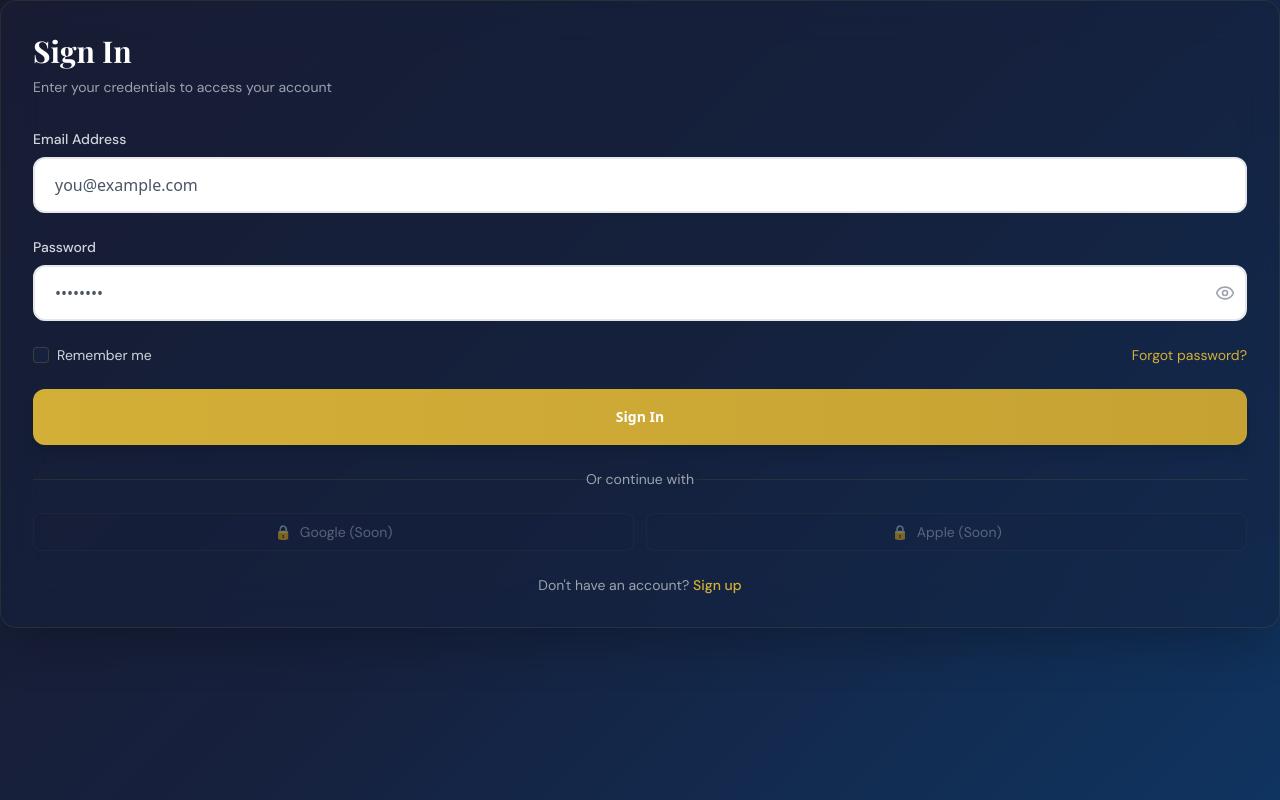
Scenario: LoginForm - 401 Error Handling › displays 401 error banner for invalid credentials
Type "test@example.com" into the field labelled "Email Address" at point(640, 185), box [33, 157, 1247, 213]
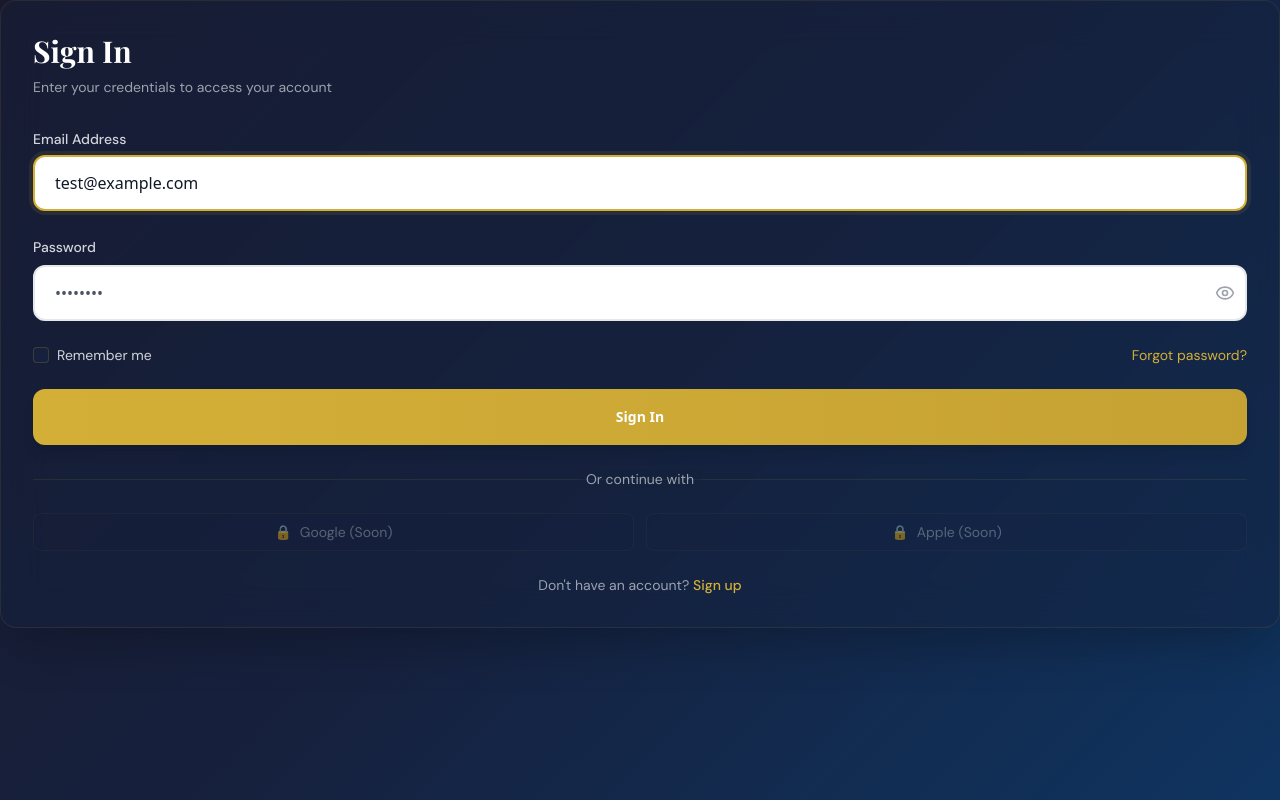
Type "WrongPassword123!" into the password field with placeholder "••••••••" at point(640, 293), box [33, 265, 1247, 321]
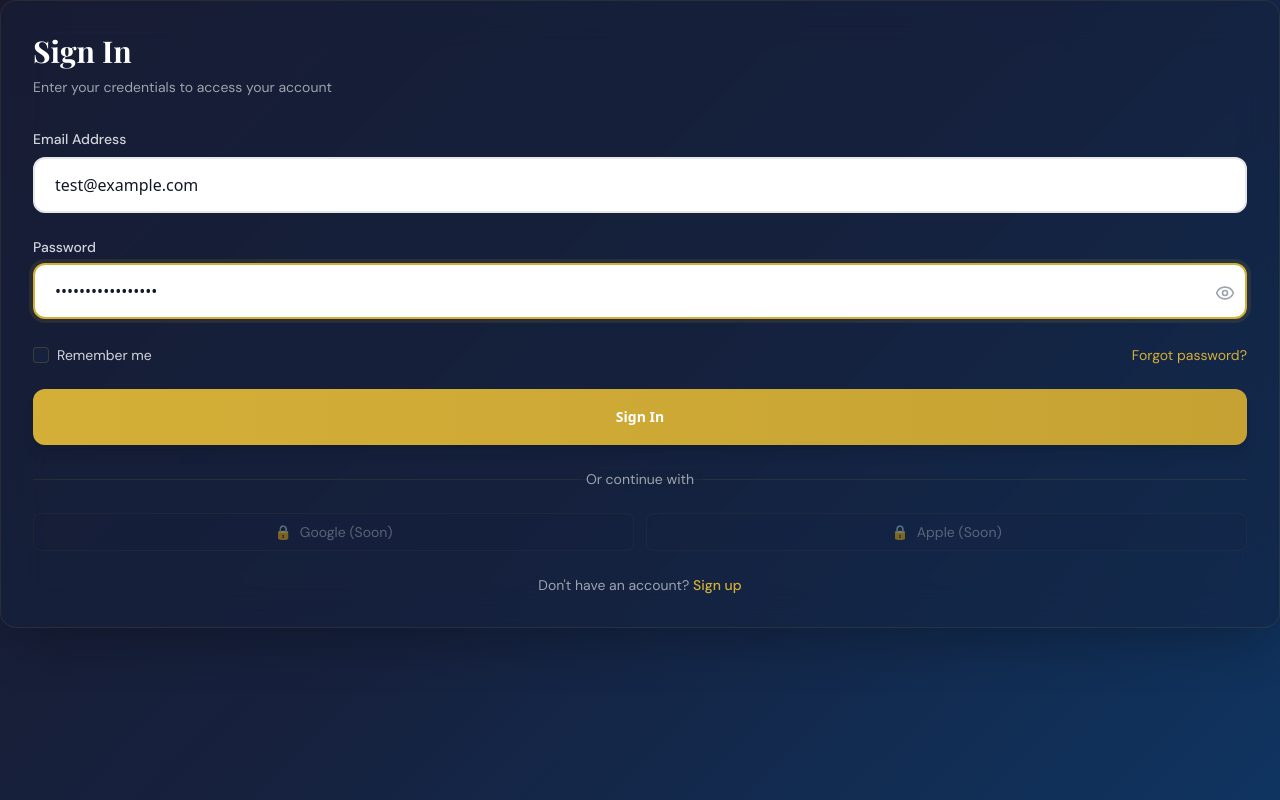
Click the button "Sign In" at point(640, 417), box [33, 389, 1247, 445]
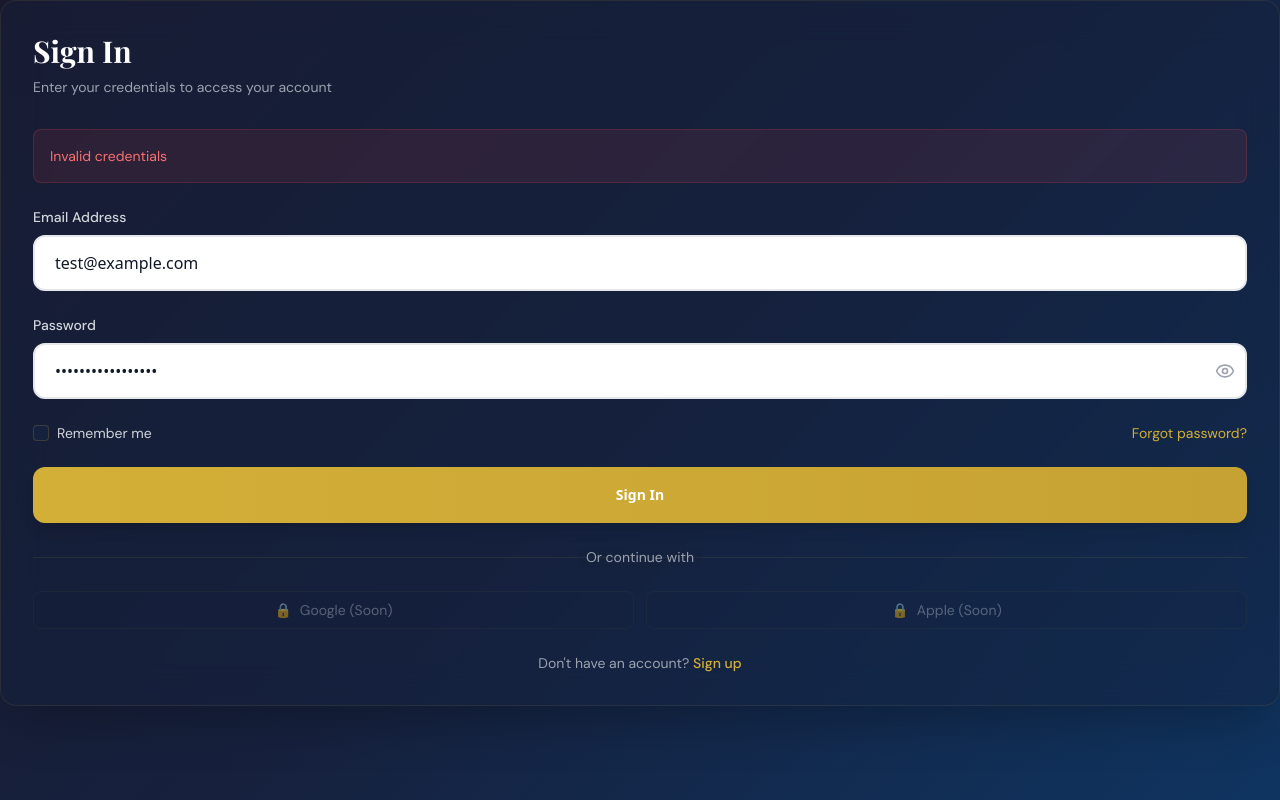
expect the message "Invalid credentials" is shown: met, box [33, 129, 1247, 183]
expect the message reads "Invalid credentials": met, box [50, 147, 167, 165]
